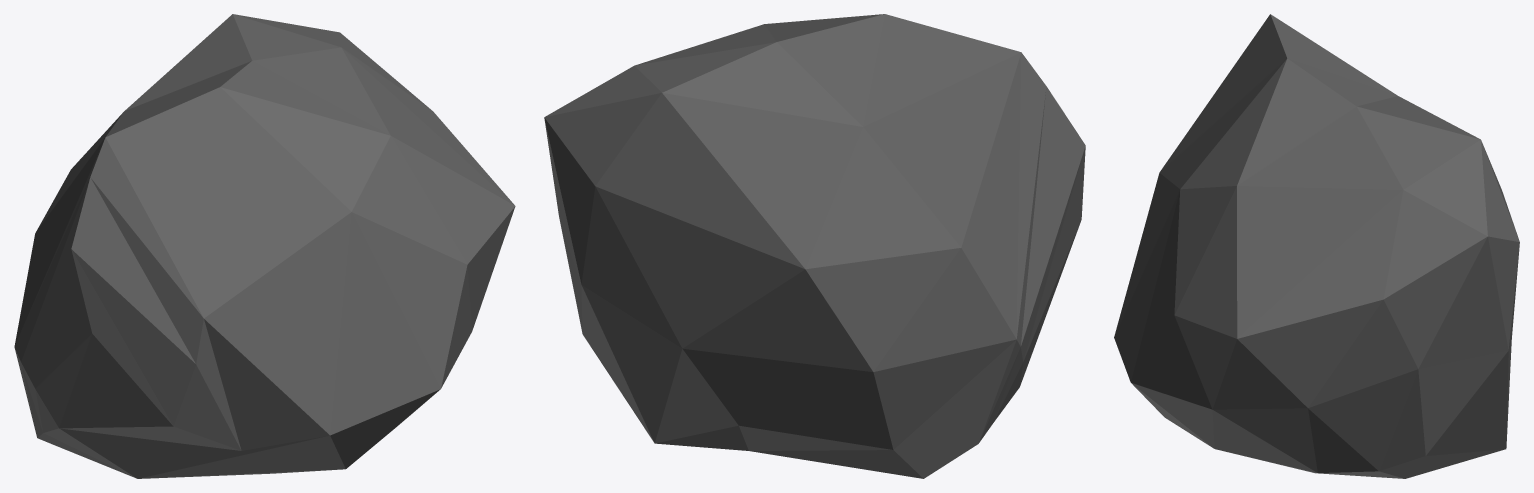
File: SM_Big_Rock_02.fbx
The picture shows the model from 3 angles, left to right: view 1: azimuth 30°, elevation 25°; view 2: azimuth 150°, elevation 25°; view 3: azimuth 270°, elevation 25°; orthographic projection. The views are drawn at different scales.
Visible parts, largest first — view 1: Big_Rock_02; view 2: Big_Rock_02; view 3: Big_Rock_02.
Boxes of the visible parts, x1,y1,x2,y2 form: Big_Rock_02: [14, 14, 515, 478]; Big_Rock_02: [544, 14, 1085, 478]; Big_Rock_02: [1114, 14, 1519, 478].
Bounding box in the file's own units: 3.94 × 3.36 × 3.32.
